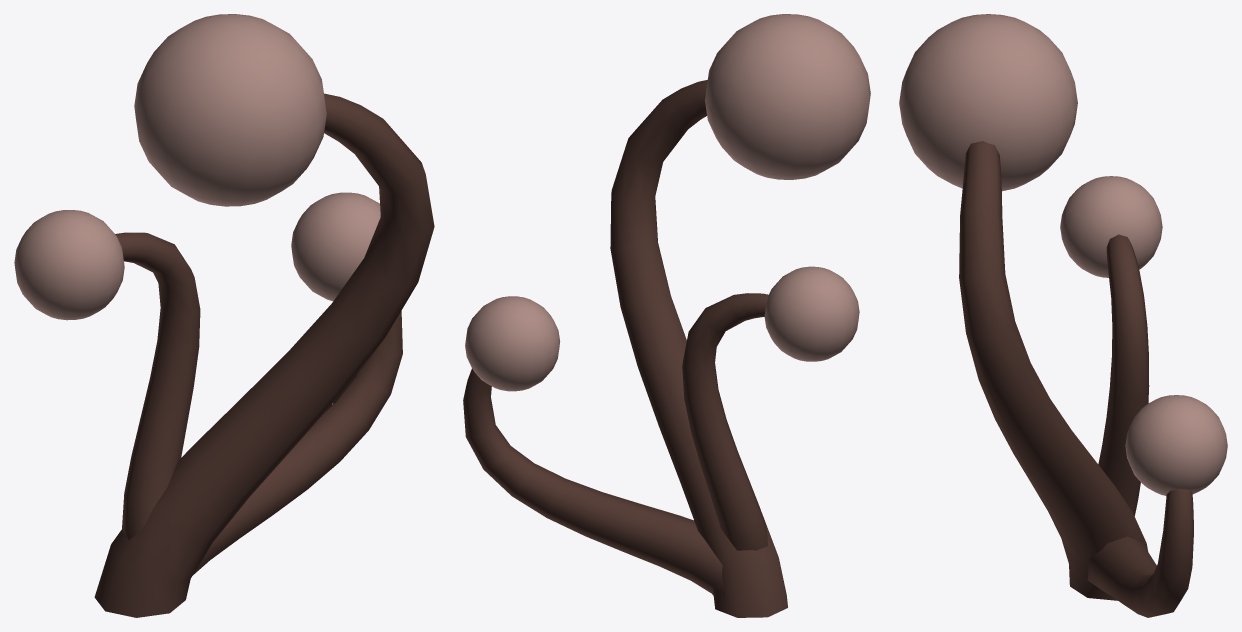
Rendered from quaternius-ultimate-space-tree-light-1-transformed.glb.
3 views of the same model, side by side, from view 1: azimuth 30°, elevation 25°; view 2: azimuth 150°, elevation 25°; view 3: azimuth 270°, elevation 25° (orthographic). The views are drawn at different scales.
Parts seen in each view (by area): view 1: Tree_Light_1; view 2: Tree_Light_1; view 3: Tree_Light_1.
Boxes of the visible parts, box(x1,y1,x2,y2) form: Tree_Light_1: box(14, 14, 434, 617); Tree_Light_1: box(463, 14, 870, 617); Tree_Light_1: box(899, 14, 1227, 617).
Bounding box in the file's own units: 2.63 × 3.76 × 1.96.
1 material, 1 textured.
